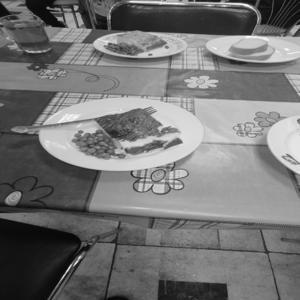bread: (225, 32, 276, 64)
casserole: (78, 104, 188, 173), (99, 24, 167, 58)
tea: (3, 11, 58, 60)
